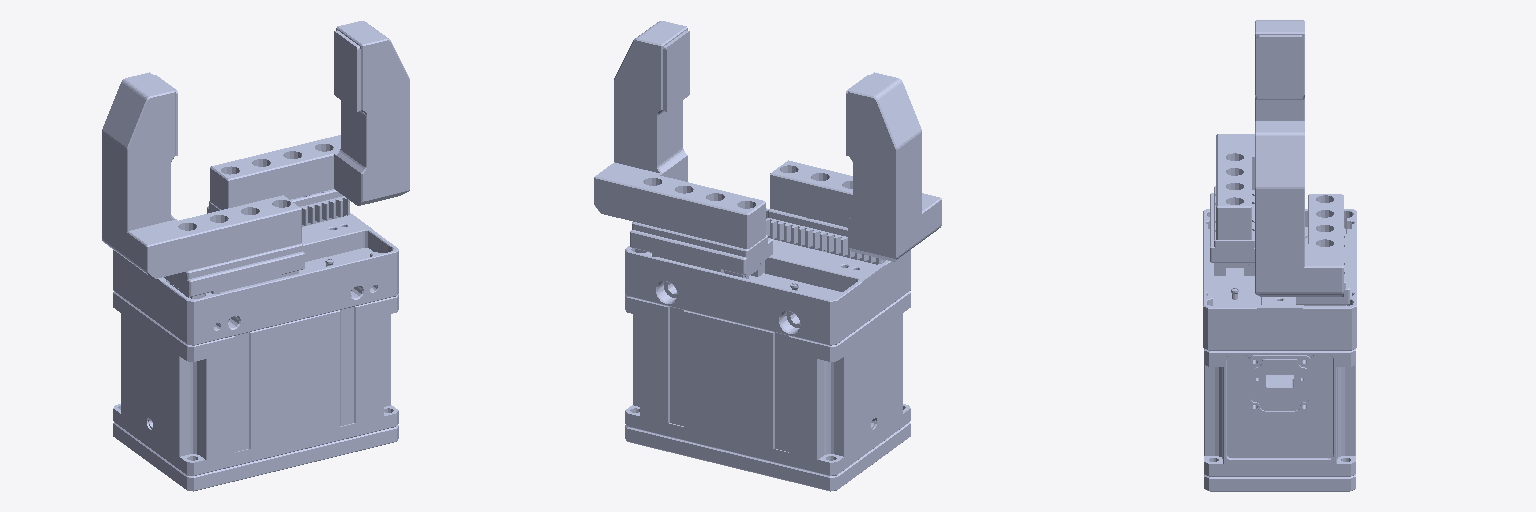
robot.urdf — gripper:
<?xml version="1.0" encoding="utf-8"?>
<!-- This URDF was automatically created by SolidWorks to URDF Exporter! Originally created by Stephen Brawner (brawner@gmail.com) 
     Commit Version: 1.6.0-4-g7f85cfe  Build Version: 1.6.7995.38578
     For more information, please see http://wiki.ros.org/sw_urdf_exporter -->
<robot
  name="gripper">
  <link
    name="base_link">
    <inertial>
      <origin
        xyz="0.000776249315939448 -9.32733579416881E-05 0.0353238890747118"
        rpy="0 0 0" />
      <mass
        value="0.175159784385337" />
      <inertia
        ixx="8.17697339684563E-05"
        ixy="-3.45127488505508E-09"
        ixz="-1.78295110539977E-06"
        iyy="0.000167947939418876"
        iyz="-4.09263769978131E-08"
        izz="0.000222515998258674" />
    </inertial>
    <visual>
      <origin
        xyz="0 0 0"
        rpy="0 0 0" />
      <geometry>
        <mesh
          filename="./meshes/gripper/base_link.STL" />
      </geometry>
      <material
        name="">
        <color
          rgba="0.792156862745098 0.819607843137255 0.933333333333333 1" />
      </material>
    </visual>
    <collision>
      <origin
        xyz="0 0 0"
        rpy="0 0 0" />
      <geometry>
        <mesh
          filename="./meshes/gripper/base_link.STL" />
      </geometry>
    </collision>
  </link>
  <link
    name="left_link">
    <inertial>
      <origin
        xyz="0.037632 -0.0088006 0.00096534"
        rpy="0 0 0" />
      <mass
        value="0.055911" />
      <inertia
        ixx="1.8833E-05"
        ixy="4.3686E-06"
        ixz="-4.9039E-06"
        iyy="3.1447E-05"
        iyz="3.7712E-06"
        izz="2.217E-05" />
    </inertial>
    <visual>
      <origin
        xyz="0 0 0"
        rpy="0 0 0" />
      <geometry>
        <mesh
          filename="./meshes/gripper/left_link.STL" />
      </geometry>
      <material
        name="">
        <color
          rgba="0.79216 0.81961 0.93333 1" />
      </material>
    </visual>
    <collision>
      <origin
        xyz="0 0 0"
        rpy="0 0 0" />
      <geometry>
        <mesh
          filename="./meshes/gripper/left_link.STL" />
      </geometry>
    </collision>
  </link>
  <joint
    name="left_joint"
    type="prismatic">
    <origin
      xyz="-0.04 0 0.14124"
      rpy="0 1.5708 0" />
    <parent
      link="base_link" />
    <child
      link="left_link" />
    <axis
      xyz="0 0 -1" />
    <limit
      lower="-0.04"
      upper="0"
      effort="100"
      velocity="1" />
  </joint>
  <link
    name="right_link">
    <inertial>
      <origin
        xyz="-0.037632201993843 0.00880061259646711 0.000965336223160473"
        rpy="0 0 0" />
      <mass
        value="0.0559111685912142" />
      <inertia
        ixx="1.88326524562505E-05"
        ixy="4.36861035916738E-06"
        ixz="4.90389857081758E-06"
        iyy="3.1447169883483E-05"
        iyz="-3.77124422603238E-06"
        izz="2.21699046566701E-05" />
    </inertial>
    <visual>
      <origin
        xyz="0 0 0"
        rpy="0 0 0" />
      <geometry>
        <mesh
          filename="./meshes/gripper/right_link.STL" />
      </geometry>
      <material
        name="">
        <color
          rgba="0.792156862745098 0.819607843137255 0.933333333333333 1" />
      </material>
    </visual>
    <collision>
      <origin
        xyz="0 0 0"
        rpy="0 0 0" />
      <geometry>
        <mesh
          filename="./meshes/gripper/right_link.STL" />
      </geometry>
    </collision>
  </link>
  <joint
    name="right_joint"
    type="prismatic">
    <origin
      xyz="0.04 0 0.14124"
      rpy="0 -1.5708 0" />
    <parent
      link="base_link" />
    <child
      link="right_link" />
    <axis
      xyz="0 0 -1" />
    <limit
      lower="-0.04"
      upper="0"
      effort="100"
      velocity="1" />
  </joint>
</robot>

--- Facts derived from the render (not from the file) ---
The picture shows the robot from 3 angles, left to right: view 1: azimuth 30°, elevation 25°; view 2: azimuth 150°, elevation 25°; view 3: azimuth 270°, elevation 25°; orthographic projection.
Model gripper with 3 links and 2 joints (2 prismatic), rooted at base_link, posed every joint at zero.
Links seen in each view (by area): view 1: base_link, left_link, right_link; view 2: base_link, right_link, left_link; view 3: base_link, right_link, left_link.
Link boxes in pixels (x1,y1,x2,y2): base_link: [113, 213, 398, 491]; left_link: [102, 72, 304, 298]; right_link: [207, 21, 409, 226]; base_link: [625, 208, 910, 491]; right_link: [594, 21, 772, 278]; left_link: [766, 72, 941, 264]; base_link: [1203, 209, 1356, 491]; right_link: [1255, 121, 1349, 305]; left_link: [1210, 20, 1304, 275].
Bounding box of the posed robot: 0.127 × 0.0617 × 0.1655 m (x, y, z).
3 mesh visuals loaded from 3 distinct referenced files (3 binary STL).
